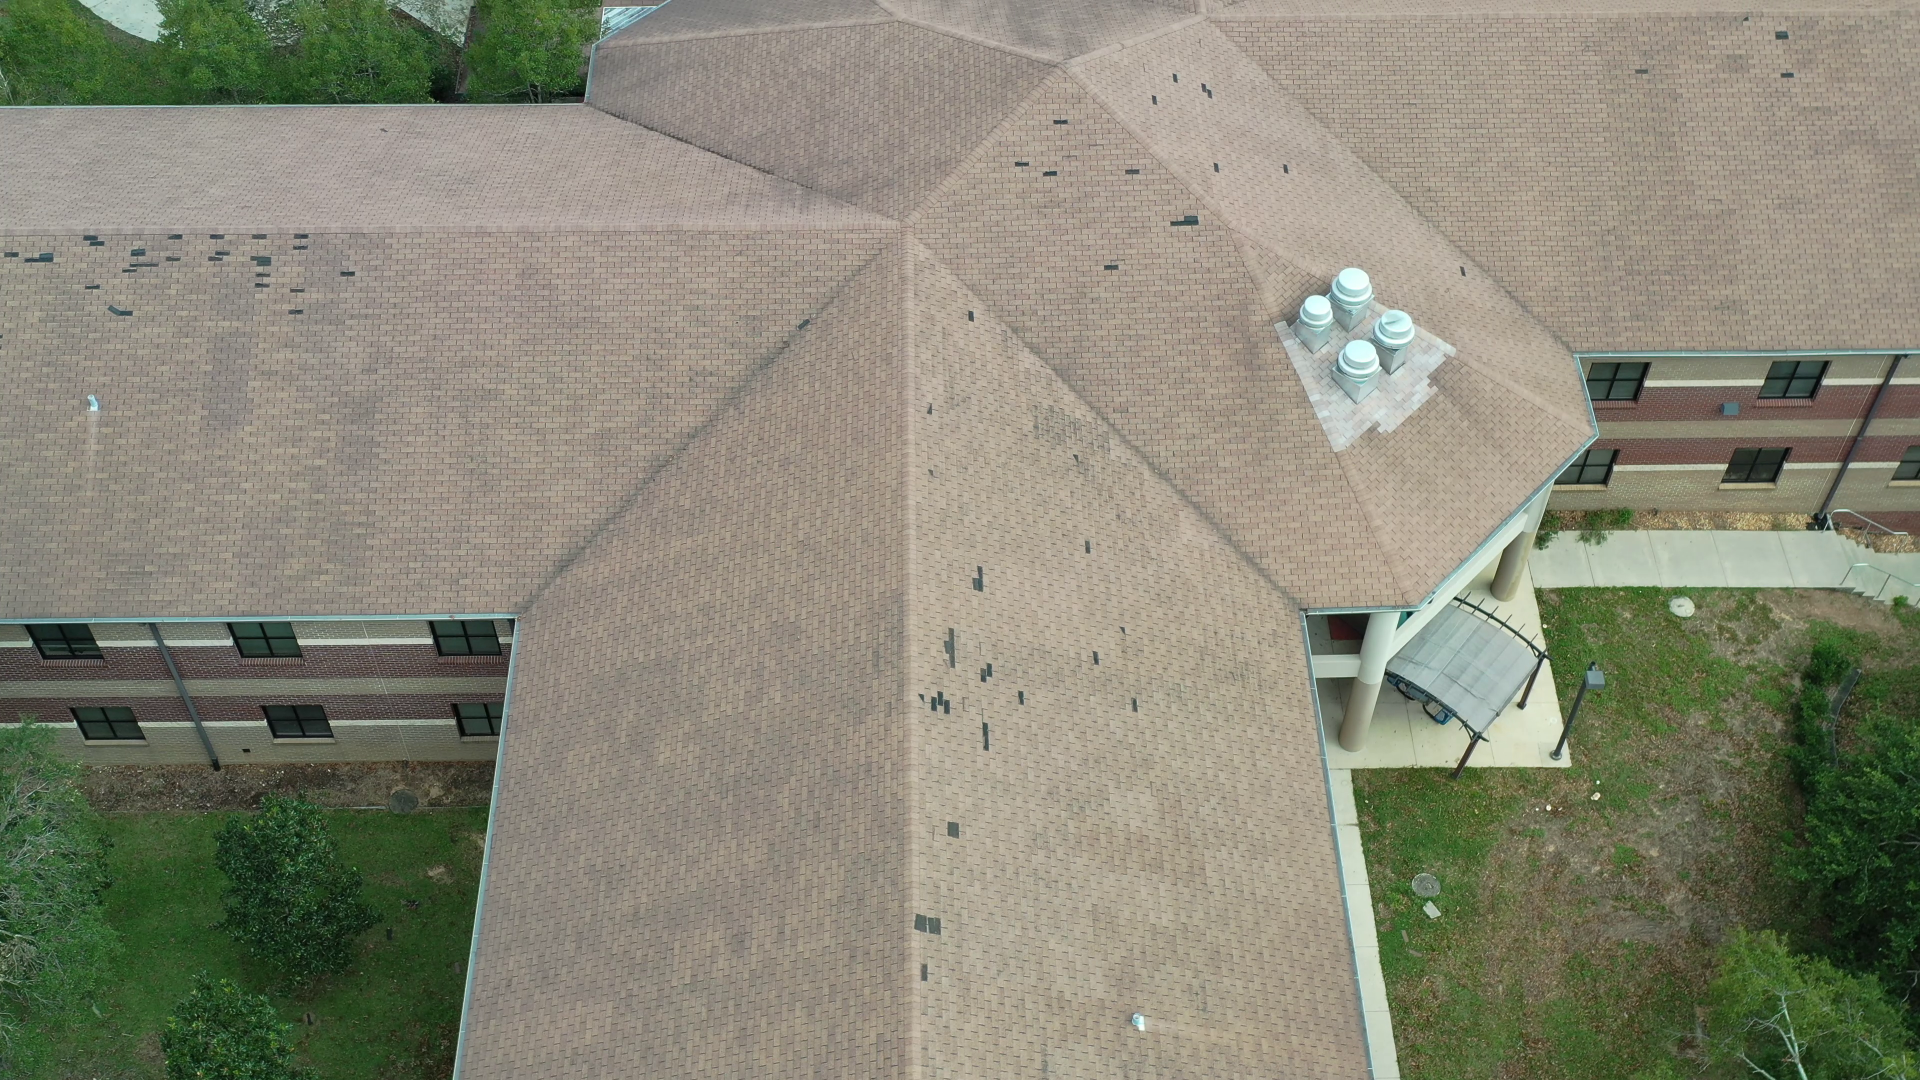Light: (3, 233, 356, 315), (919, 628, 1025, 752), (1092, 626, 1139, 713), (914, 914, 942, 982), (1171, 73, 1213, 99), (1013, 161, 1058, 178), (1168, 215, 1200, 228), (972, 566, 985, 592), (945, 822, 960, 840), (1774, 29, 1789, 41), (1102, 262, 1120, 272), (1052, 117, 1069, 125), (1124, 167, 1139, 175), (967, 309, 975, 323), (1633, 69, 1650, 75), (1779, 73, 1795, 79), (1084, 539, 1091, 554), (1213, 160, 1220, 173), (1151, 94, 1158, 105), (1283, 162, 1288, 175)
